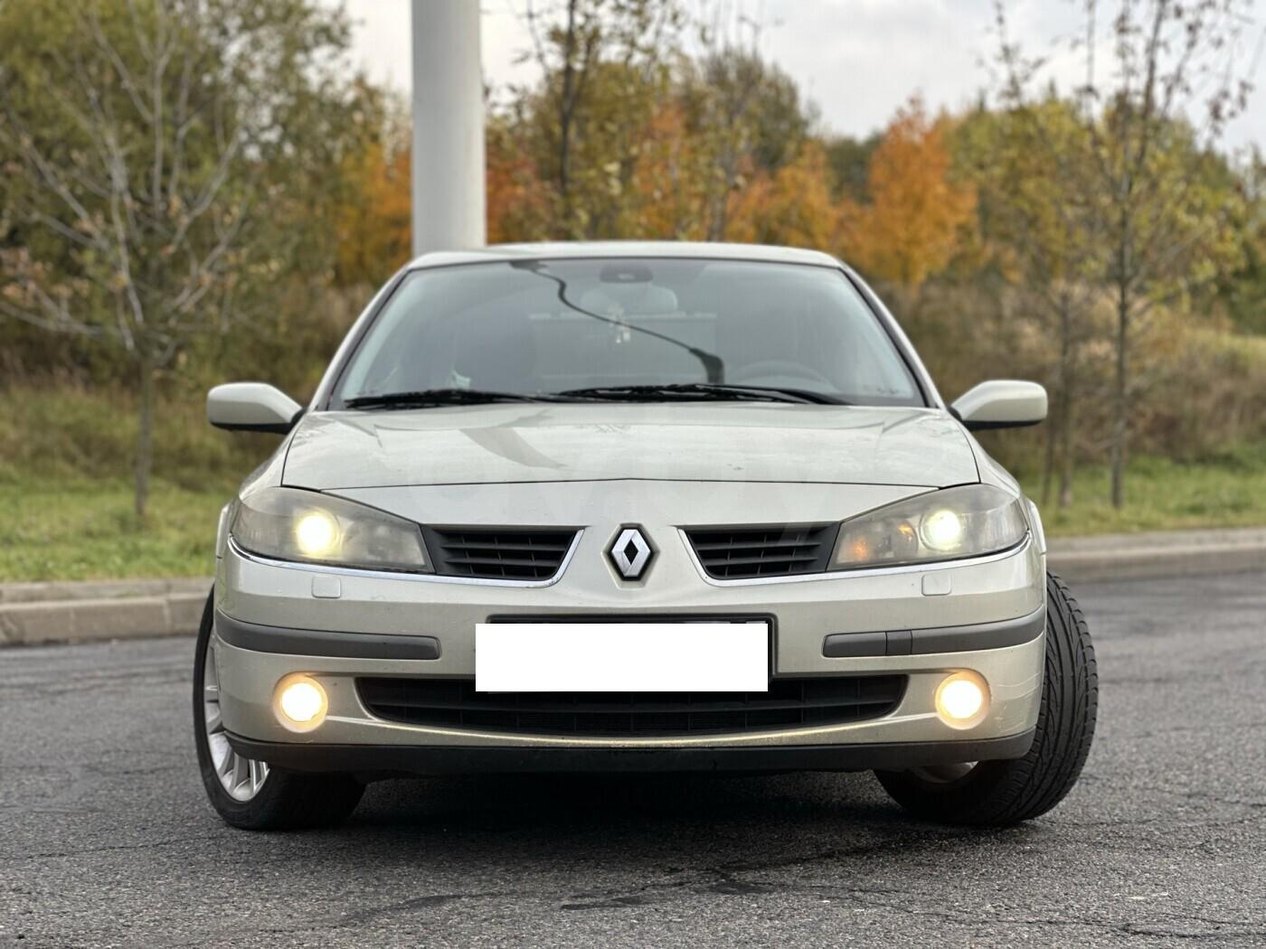Laguna_2005-2007: (183, 230, 1110, 851)
